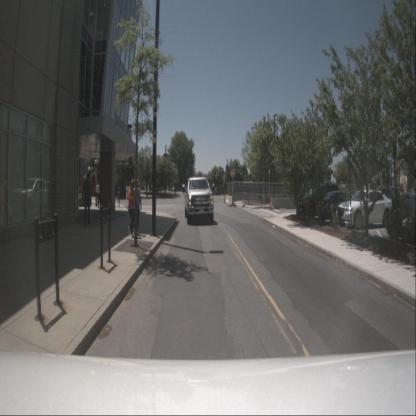barrier: (272, 197, 294, 210), (226, 195, 233, 206)
cone: (269, 193, 273, 210), (228, 192, 232, 207), (223, 190, 226, 203)
